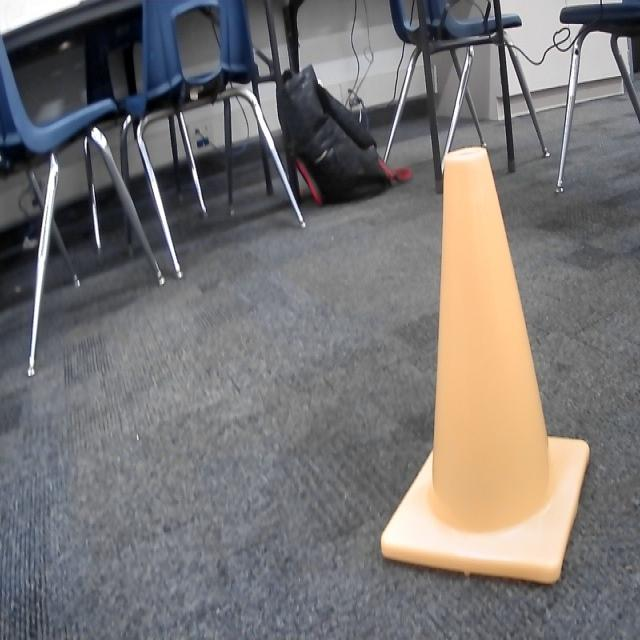cone: (376, 139, 593, 597)
